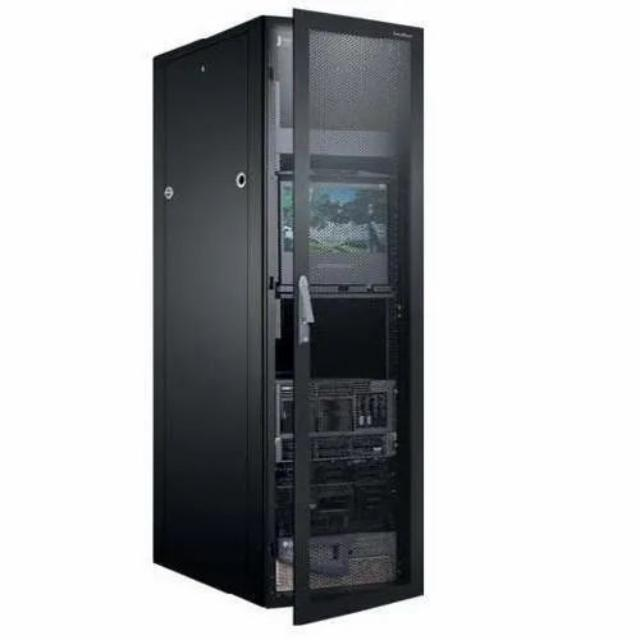Server: (137, 1, 435, 633)
